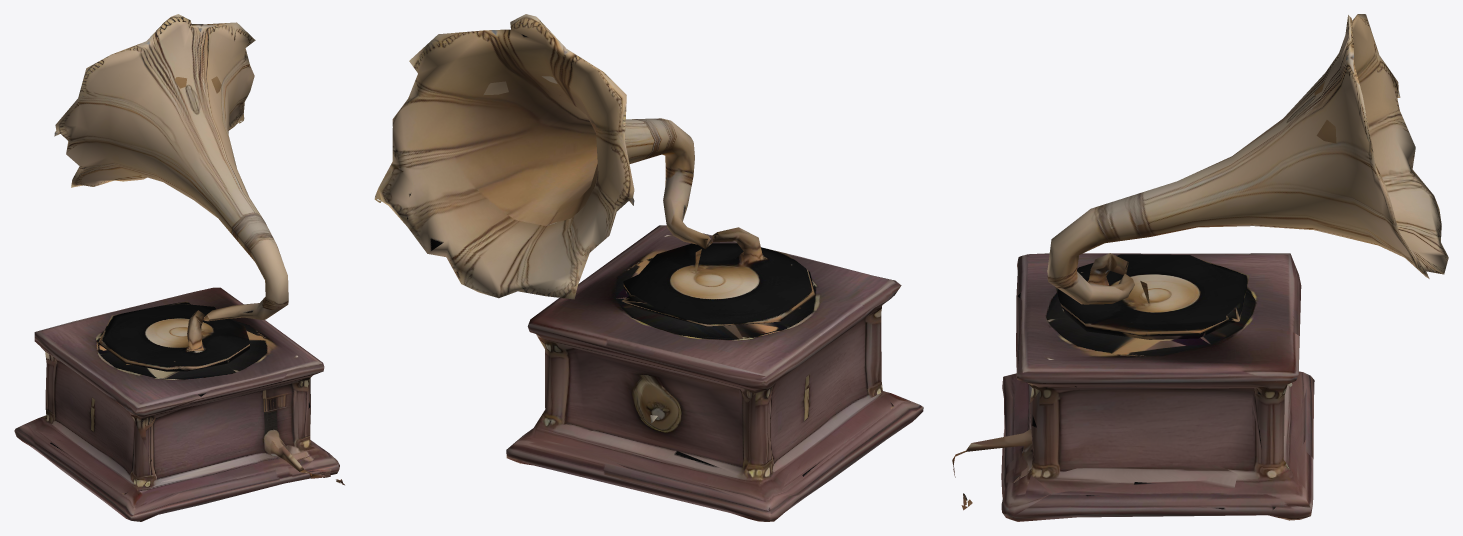
The model's file is GrammerPhone 2.fbx.
3 renders of one model, left to right at view 1: azimuth 30°, elevation 25°; view 2: azimuth 150°, elevation 25°; view 3: azimuth 270°, elevation 25°, orthographic. The views are drawn at different scales.
Parts seen in each view (by area): view 1: GrammerPhone 2; view 2: GrammerPhone 2; view 3: GrammerPhone 2.
Boxes of the visible parts, bbox=[...] form: GrammerPhone 2: bbox=[14, 14, 344, 521]; GrammerPhone 2: bbox=[374, 14, 923, 521]; GrammerPhone 2: bbox=[952, 14, 1448, 521].
Size of the model in its own units: 71.92 by 94.02 by 87.01.
Materials: 1 (1 with a texture image).
